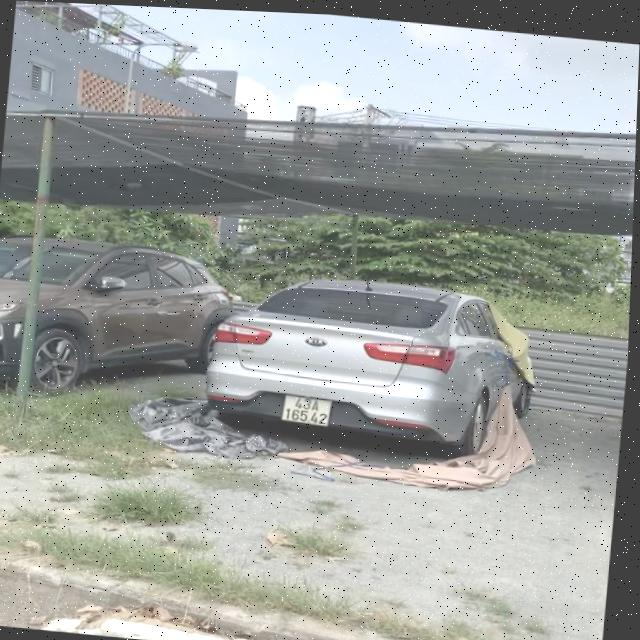car: (201, 263, 556, 468), (0, 229, 246, 408)
plate: (276, 386, 337, 432), (0, 318, 5, 346)
